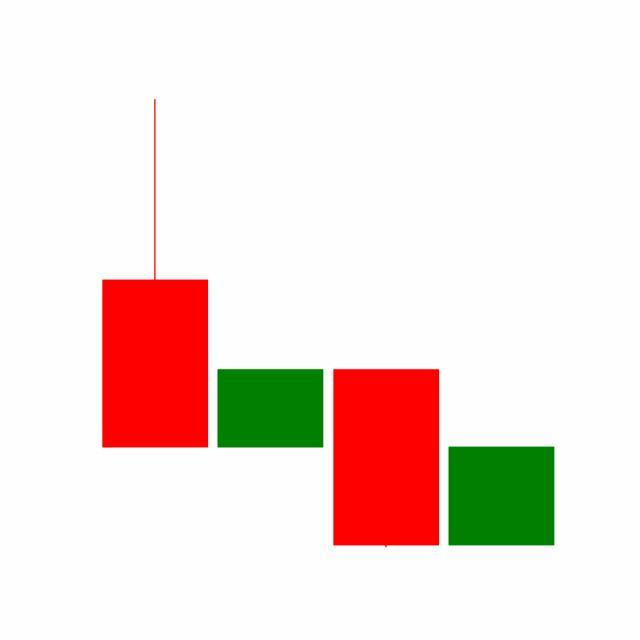Marubozu: (329, 368, 445, 550)
